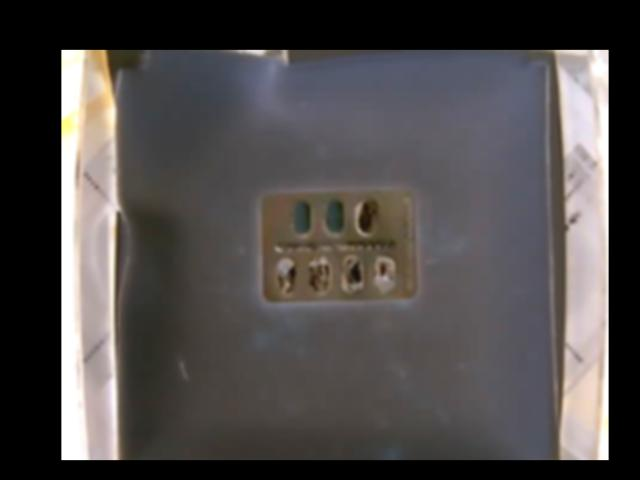Medicine: (258, 189, 417, 300)
